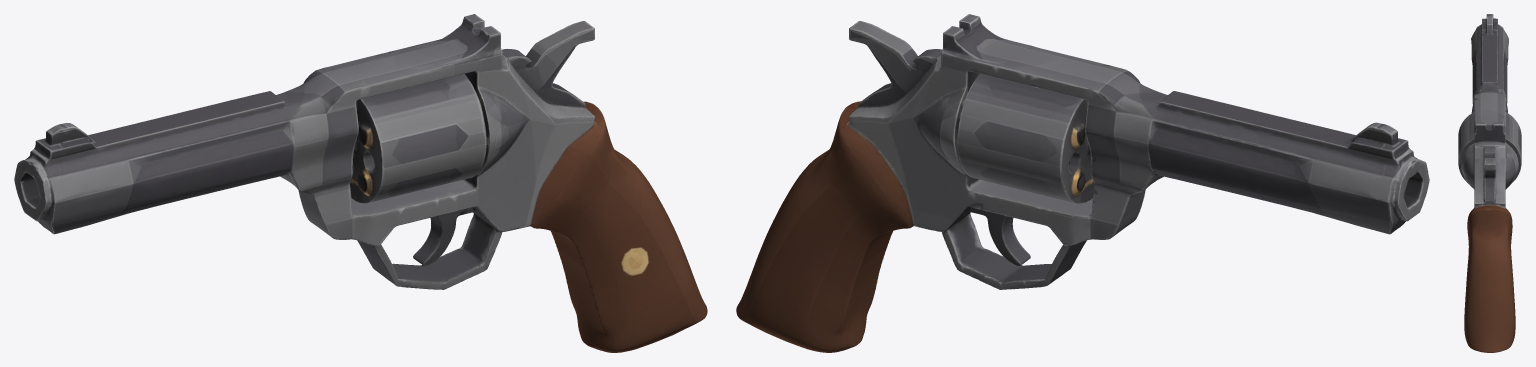
Rendered from revolver-source.glb.
The picture shows the model from 3 angles, left to right: view 1: azimuth 30°, elevation 25°; view 2: azimuth 150°, elevation 25°; view 3: azimuth 270°, elevation 25°; orthographic projection. The views are drawn at different scales.
Bounding box in the file's own units: 1.9 × 0.9553 × 0.2959.
Materials: 1 (1 with a texture image).
